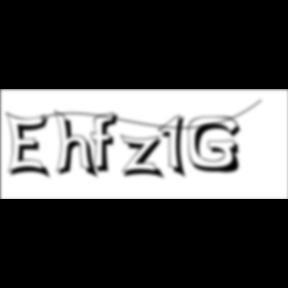1: (156, 114, 191, 182)
E: (6, 110, 54, 182)
G: (188, 116, 248, 176)
f: (90, 111, 124, 175)
h: (54, 108, 101, 182)
z: (120, 134, 170, 182)
